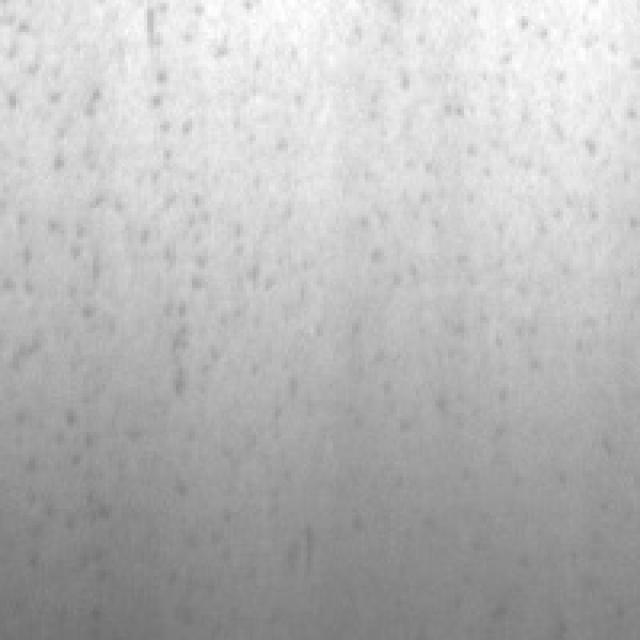pitted_surface: (228, 3, 630, 352), (10, 3, 208, 627)
